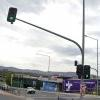traffic lights: (7, 9, 16, 24)
